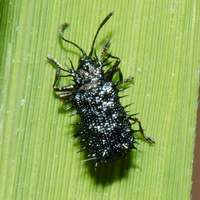insect: (47, 11, 154, 165)
